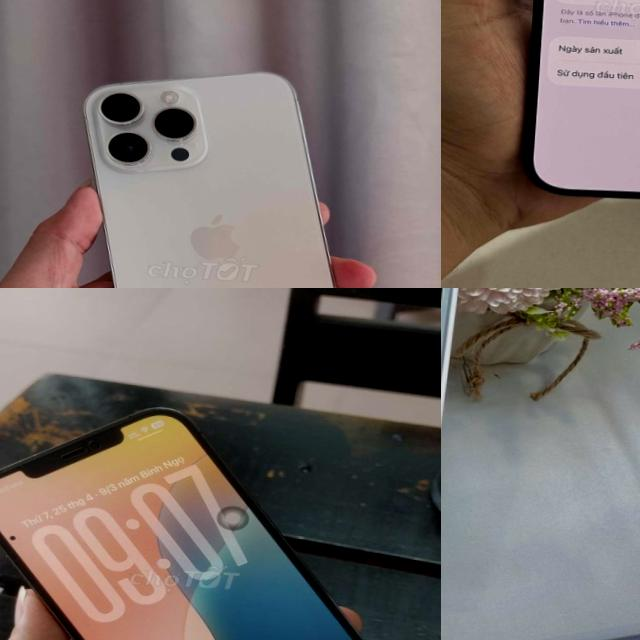gen_12_13: (0, 392, 441, 640)
gen_14: (54, 55, 382, 288)
gen_16: (523, 0, 640, 197)
